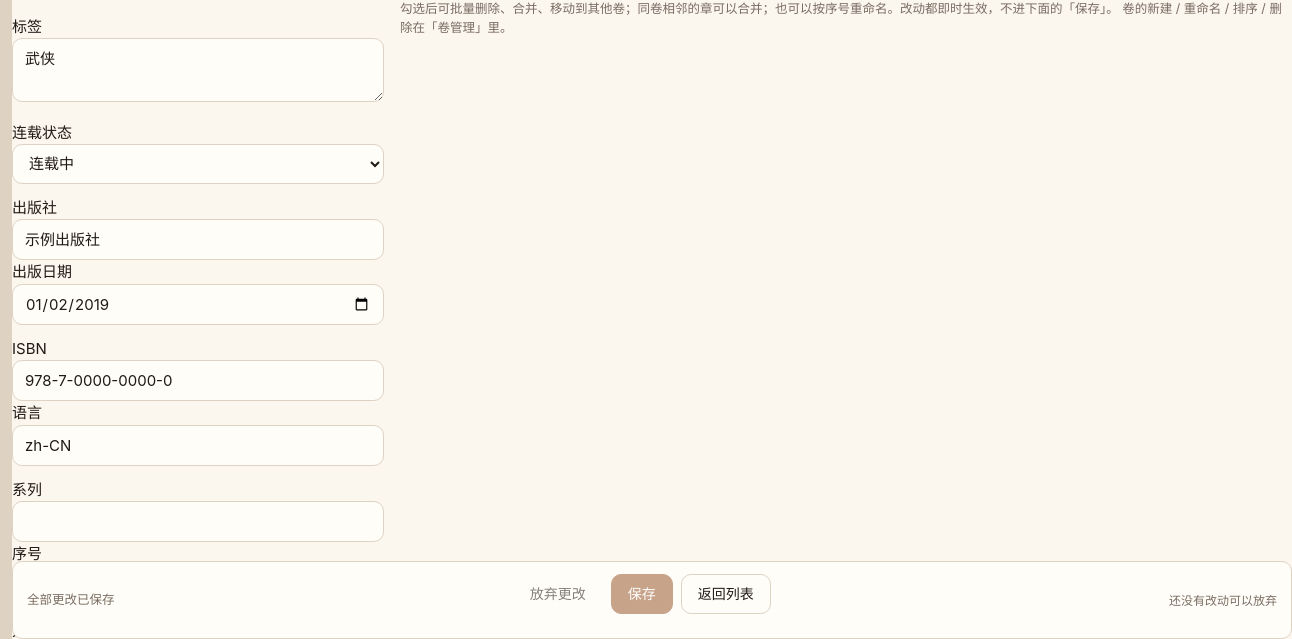
Test: 单书管理页 › 清空出版社下发空串，放弃更改后退回原值
(page scrolled)
Clear the field with test id "admin-publisher" at (198, 240), box [12, 219, 384, 260]
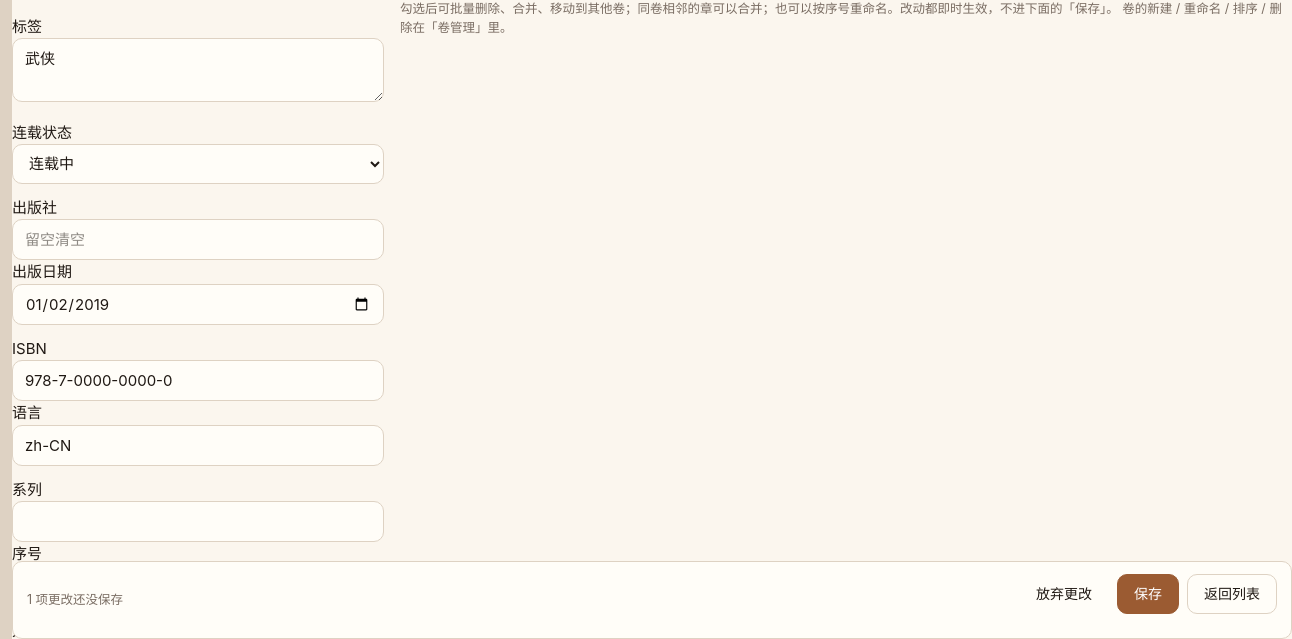
Check: the text with test id "admin-dirty" reads "1 项更改还没保存", box [27, 592, 123, 607]
Click the button with test id "admin-discard" at (1064, 594), box [1019, 574, 1109, 614]
(page scrolled)
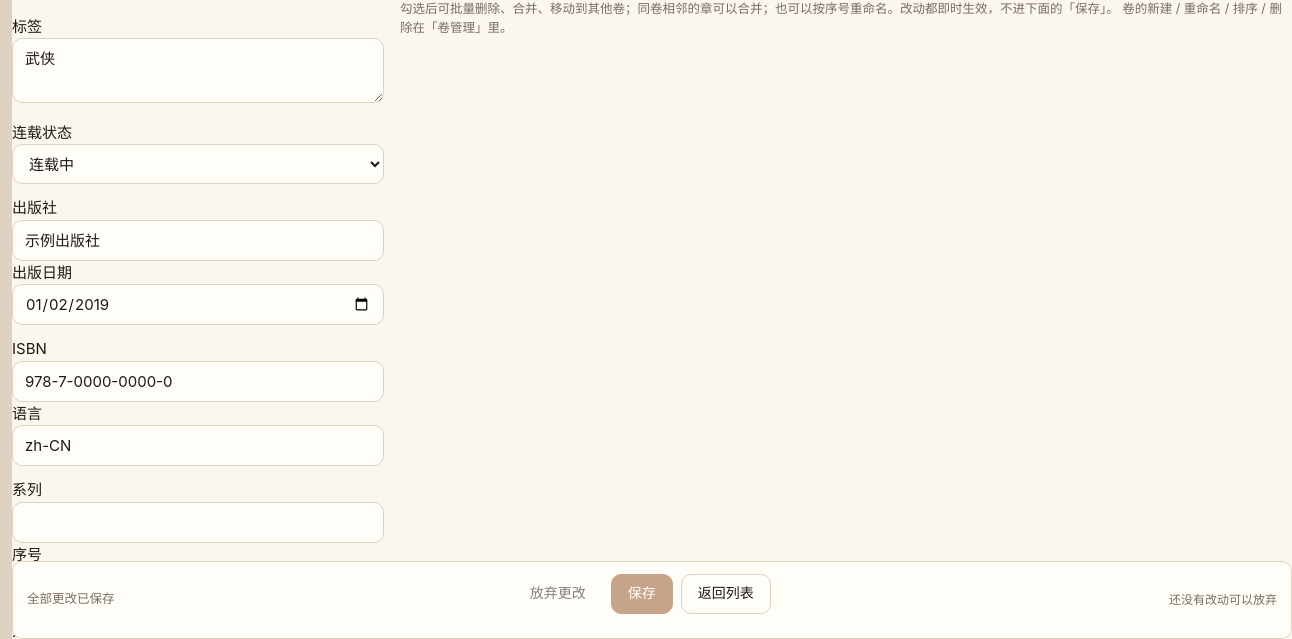
Check: the field with test id "admin-publisher" holds "示例出版社", box [12, 220, 384, 261]
Check: the text with test id "admin-dirty" reads "全部更改已保存", box [27, 592, 114, 607]
